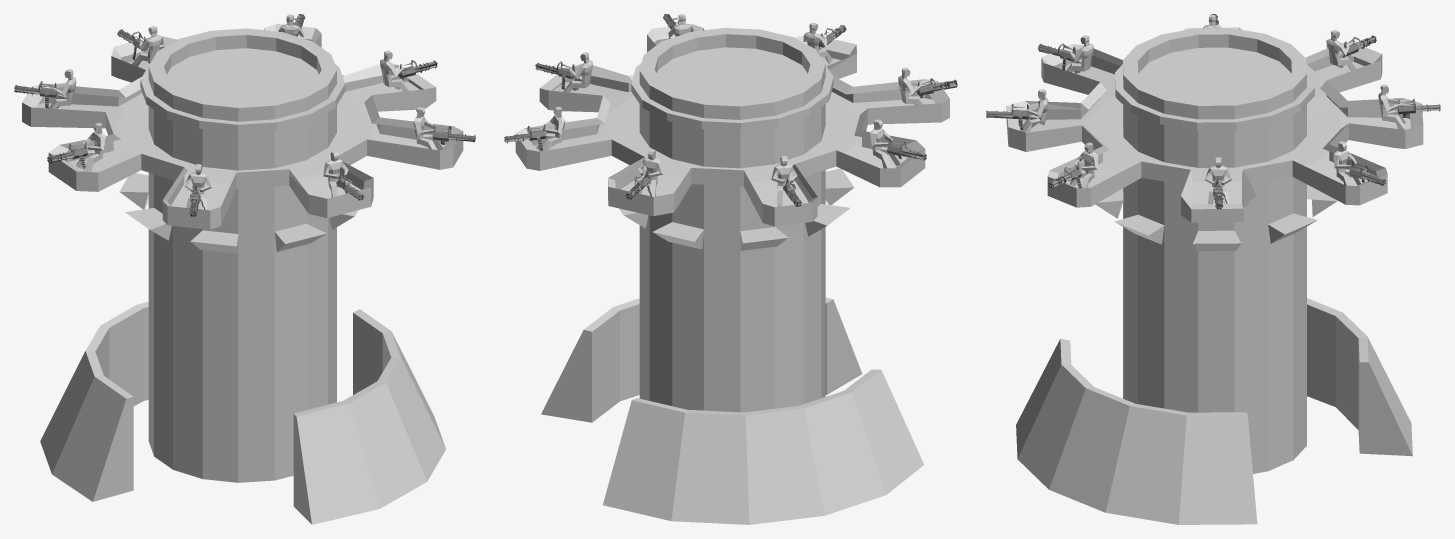
File: Turret 1.fbx
3 views of the same model, side by side, from view 1: azimuth 30°, elevation 25°; view 2: azimuth 150°, elevation 25°; view 3: azimuth 270°, elevation 25° (orthographic).
Parts seen in each view (by area): view 1: Cube; view 2: Cube; view 3: Cube.
Boxes of the visible parts, x1,y1,x2,y2 form: Cube: (14,14,475,524); Cube: (504,14,957,524); Cube: (986,14,1440,524).
Bounding box in the file's own units: 570 × 531 × 580.
